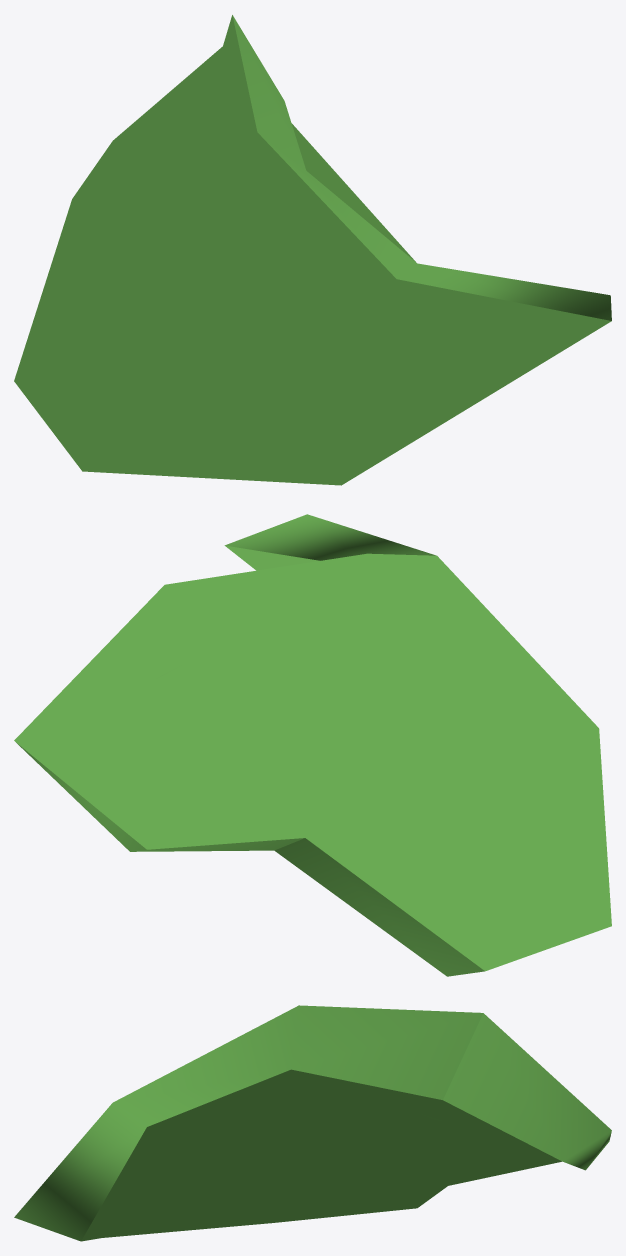
File: eurasia.fbx
3 renders of one model, top to bottom at view 1: azimuth 30°, elevation 25°; view 2: azimuth 150°, elevation 25°; view 3: azimuth 270°, elevation 25°, orthographic. The views are drawn at different scales.
Parts seen in each view (by area): view 1: pCube11; view 2: pCube11; view 3: pCube11.
Part boxes in pixels (x1,y1,x2,y2): pCube11: [14, 15, 611, 485]; pCube11: [14, 514, 611, 976]; pCube11: [14, 1005, 611, 1241].
Bounding box in the file's own units: 21.95 × 15.75 × 28.29.
